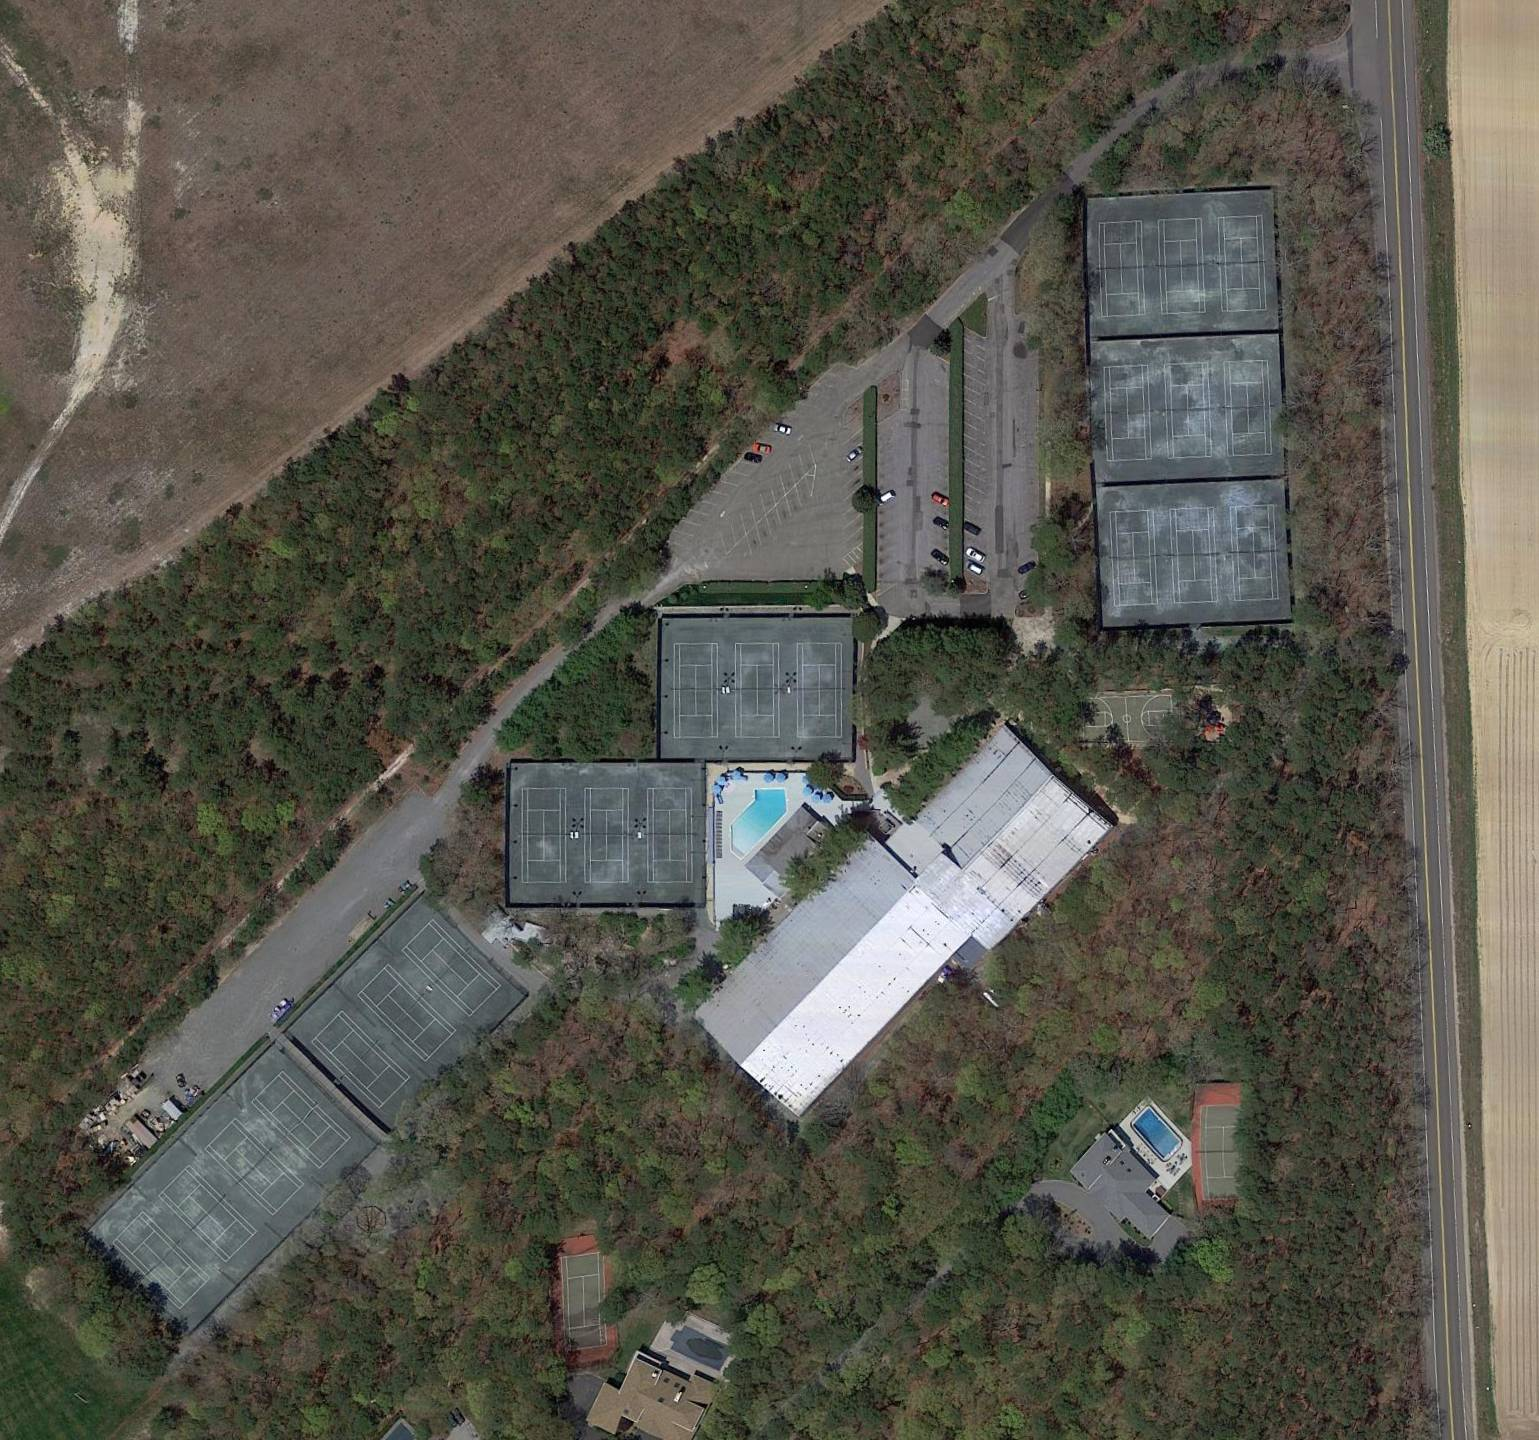basketball court: (1081, 696, 1174, 743)
swimming pool: (712, 771, 799, 861), (1130, 1104, 1184, 1164)
tennis court: (204, 1117, 305, 1217), (252, 1071, 352, 1171), (357, 964, 458, 1064), (112, 1211, 211, 1311), (313, 1010, 411, 1110), (158, 1165, 257, 1264), (403, 919, 502, 1018), (559, 1253, 609, 1352), (1169, 508, 1220, 604), (1230, 505, 1280, 601), (1199, 1104, 1249, 1200), (1224, 360, 1272, 457), (1110, 510, 1159, 608), (1105, 365, 1153, 462), (1159, 219, 1206, 315), (1220, 215, 1267, 311), (1165, 363, 1213, 459), (1100, 221, 1146, 318), (521, 788, 567, 882), (647, 788, 693, 882), (797, 643, 843, 738), (674, 644, 719, 739), (585, 788, 629, 882), (736, 644, 781, 739)
